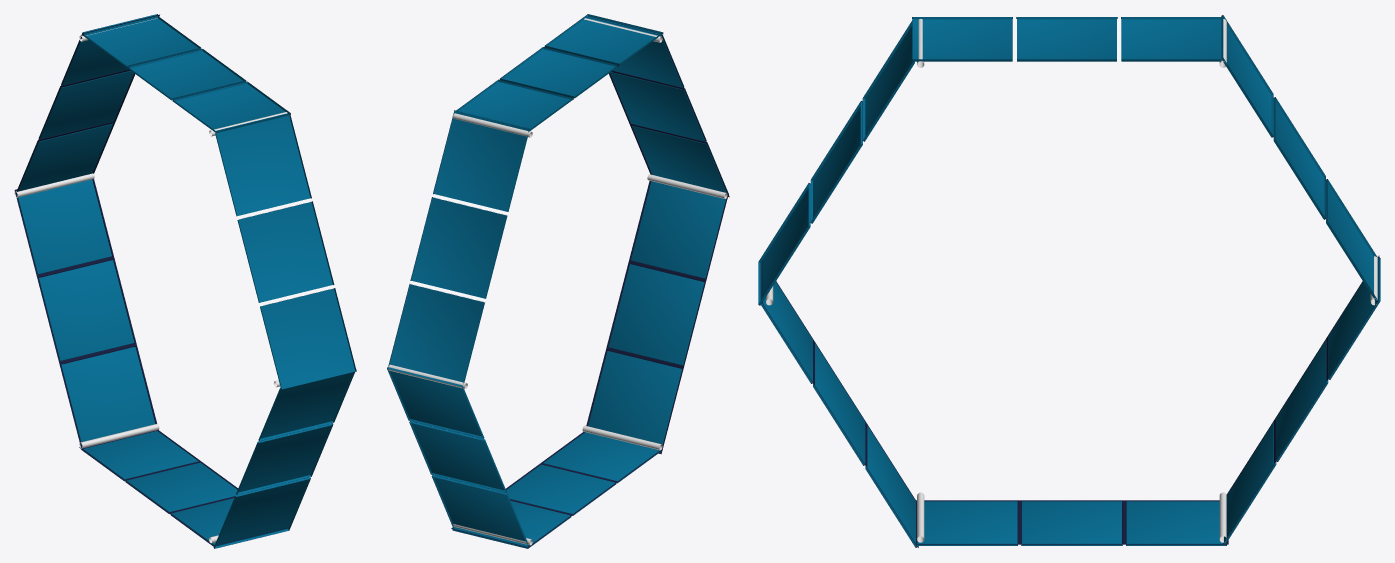
File: track.fbx
3 renders of one model, left to right at view 1: azimuth 30°, elevation 25°; view 2: azimuth 150°, elevation 25°; view 3: azimuth 270°, elevation 25°, orthographic. The views are drawn at different scales.
Parts seen in each view (by area): view 1: track; view 2: track; view 3: track.
Boxes of the visible parts, x1,y1,x2,y2 form: track: (14,14,356,548); track: (387,14,729,548); track: (758,15,1380,547).
Bounding box in the file's own units: 201 × 1192 × 1037.
